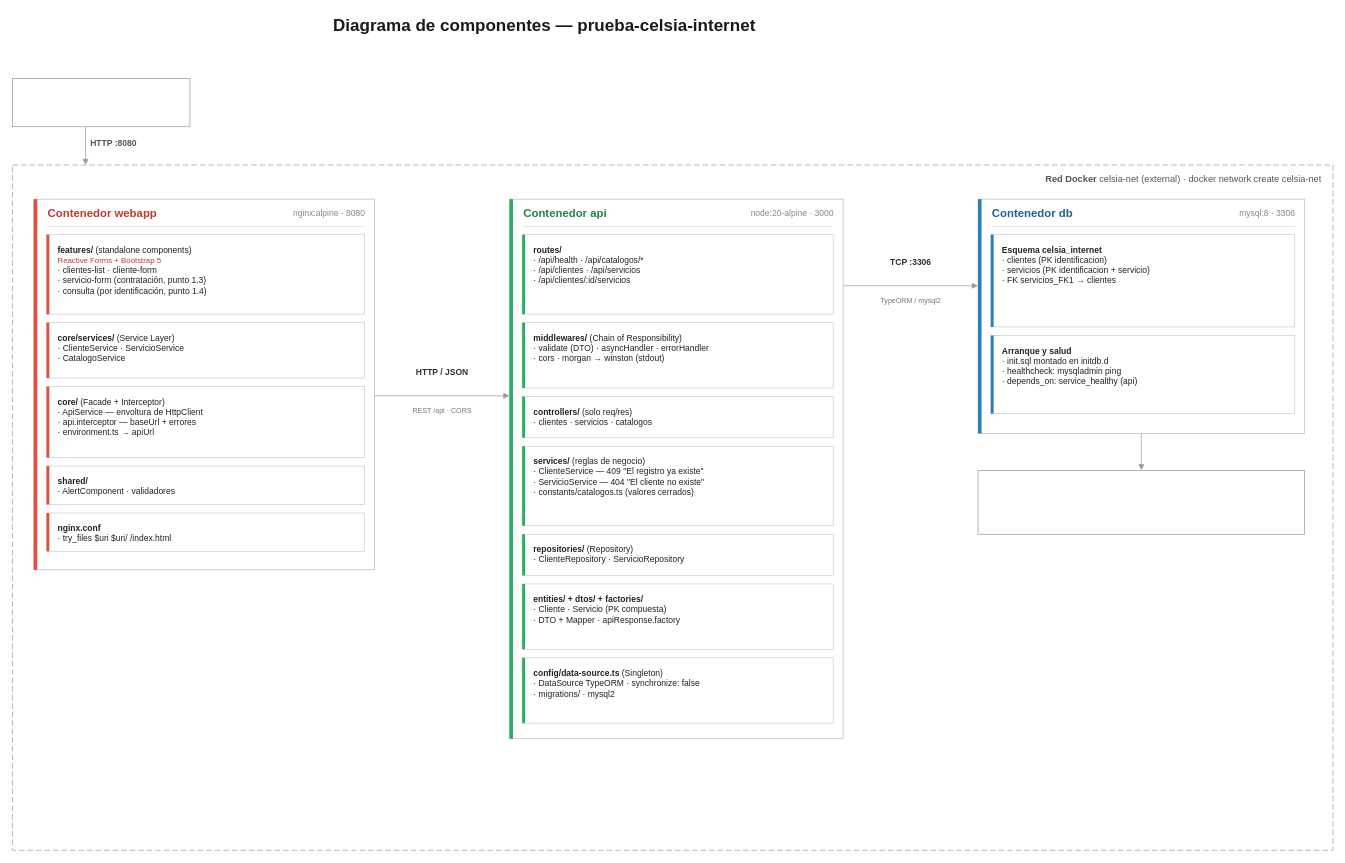
Image size: 1345x863. Some labels were removed from this diagram. The centre of each missing label's shape, as x and y in pixels:
"Usuario / Navegador SPA Angular servida por Nginx" belongs at (101,102).
"Volumen nombrado celsia-mysql-data:/var/lib/mysql" belongs at (1141,502).
